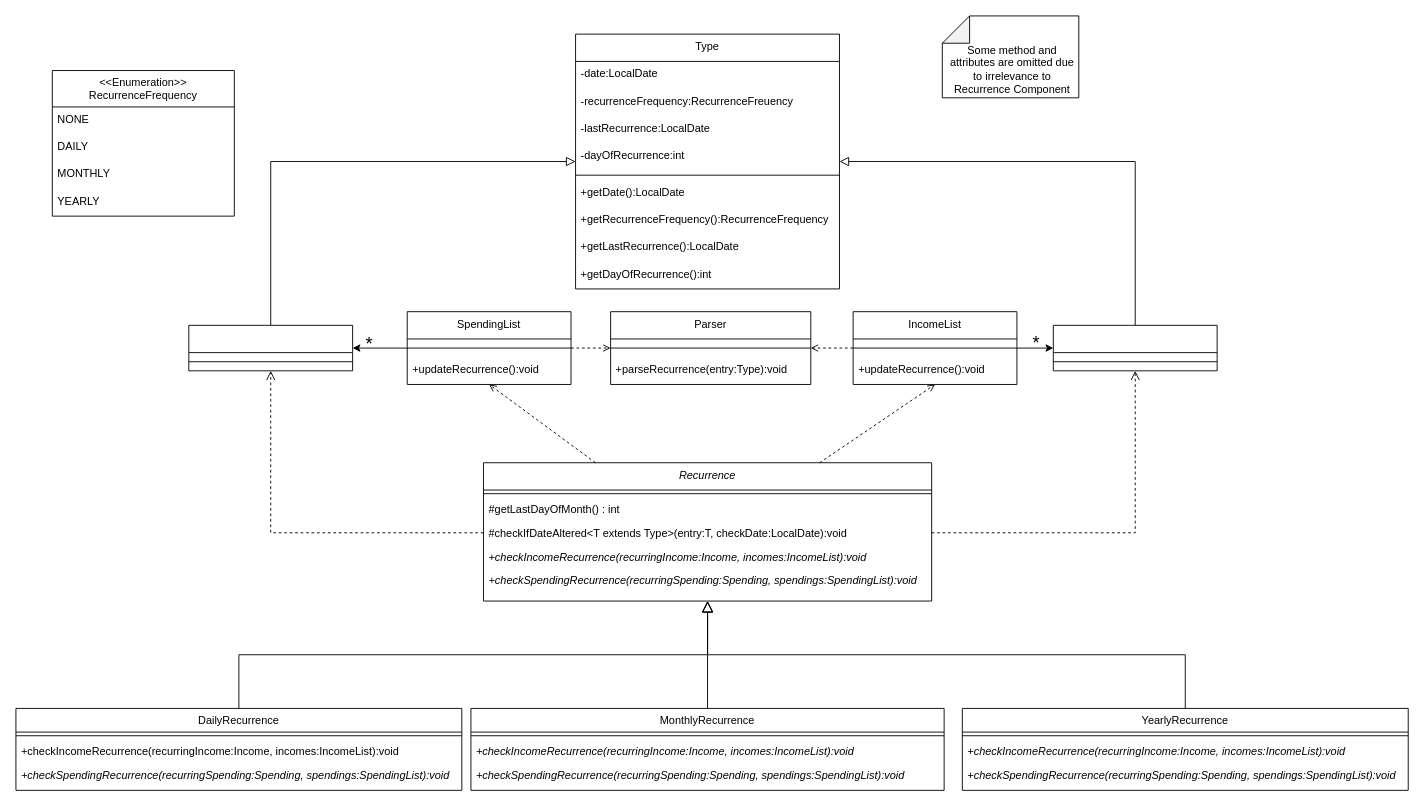
Some shapes in this 1424 by 809 pixel diagram are drawn without their labels. Here are the shapes that lost their labels. From the top down, the centre of each, then its label:
At (270,347): "Spending".
At (1134,347): "Income".
